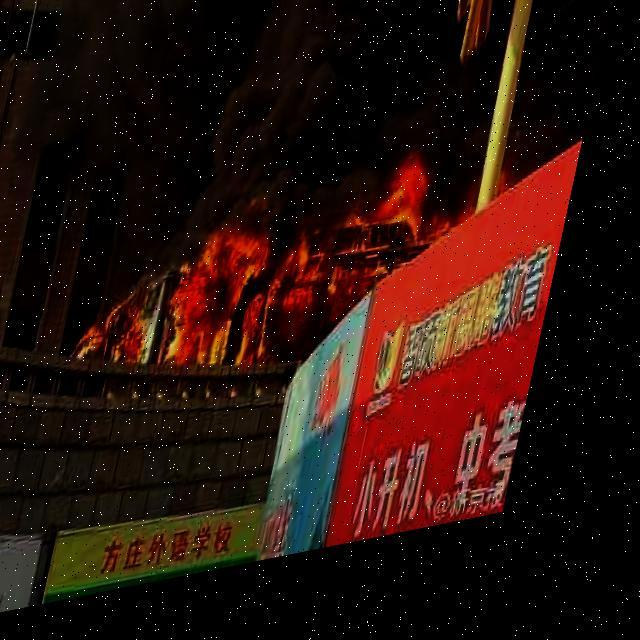Fire: (90, 158, 466, 418)
